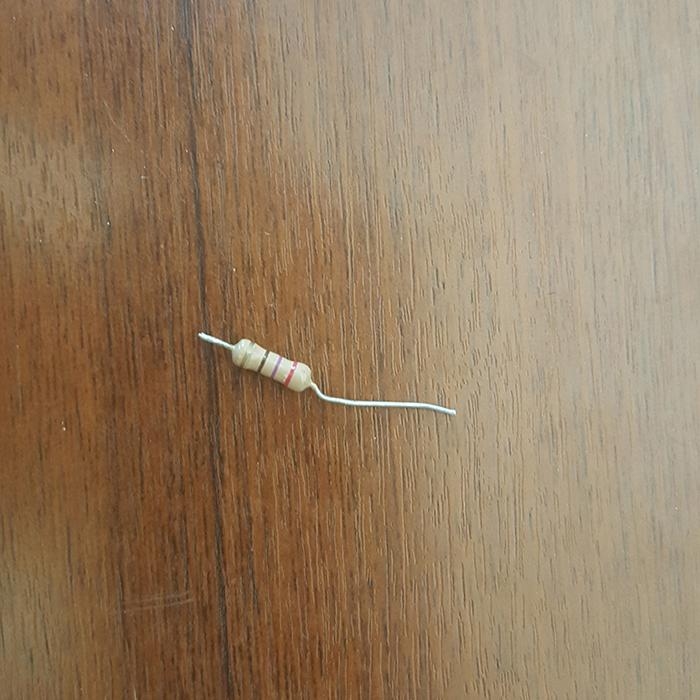resistor: (228, 338, 314, 393)
